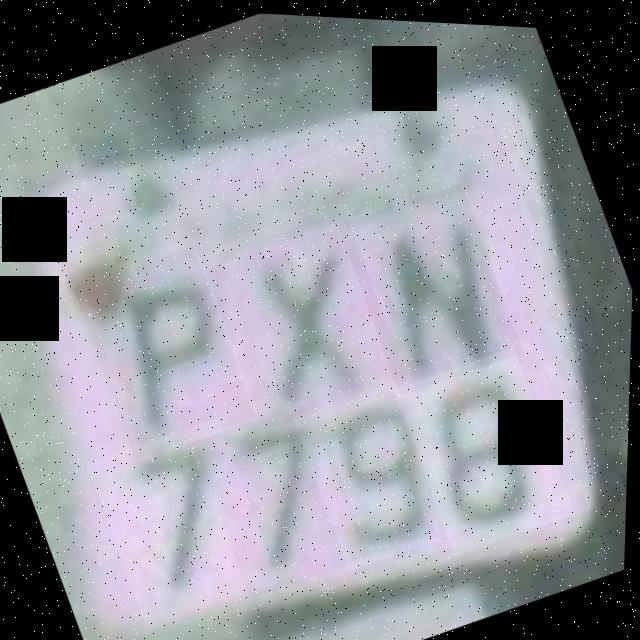7: (85, 409, 285, 632), (192, 391, 377, 600)
8: (392, 336, 581, 555)
9: (291, 365, 473, 572)
N: (335, 171, 530, 395)
P: (70, 238, 261, 461)
X: (200, 201, 413, 433)
